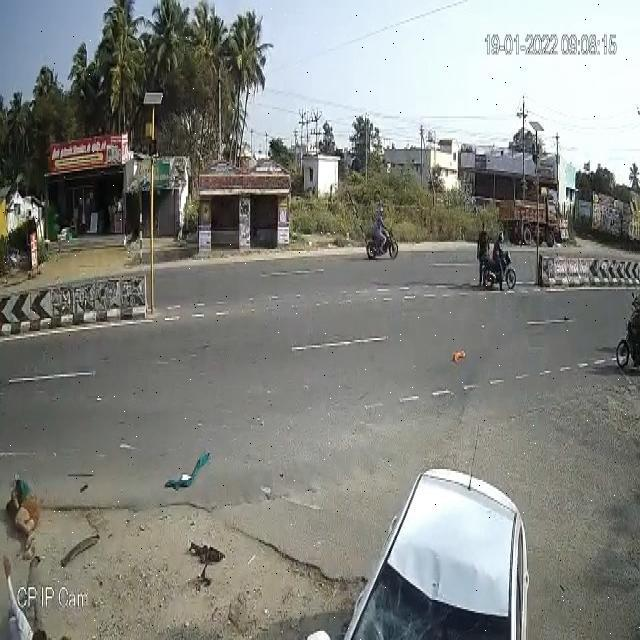accident: (339, 411, 548, 640), (0, 460, 49, 558)
